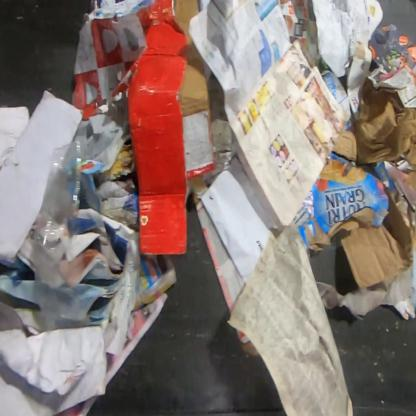cardboard: (126, 0, 216, 256), (294, 148, 415, 289), (331, 90, 415, 169)
soft_plastic: (34, 140, 90, 330)
